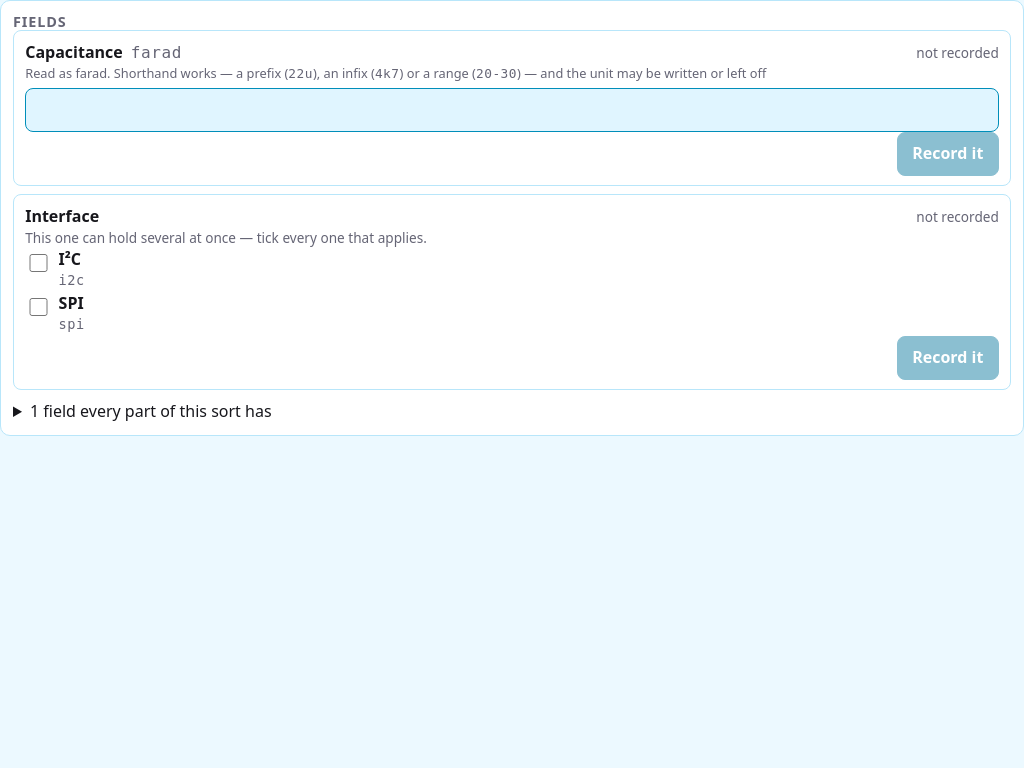
it: PartFields › puts the server's refusal against the field that caused it
The image size is (1024, 768).
Expected: the text "Capacitance" is shown, [25,41,123,64]
In the field labelled "Shorthand works": x=512, y=110 [25,88,999,132], type "1M"
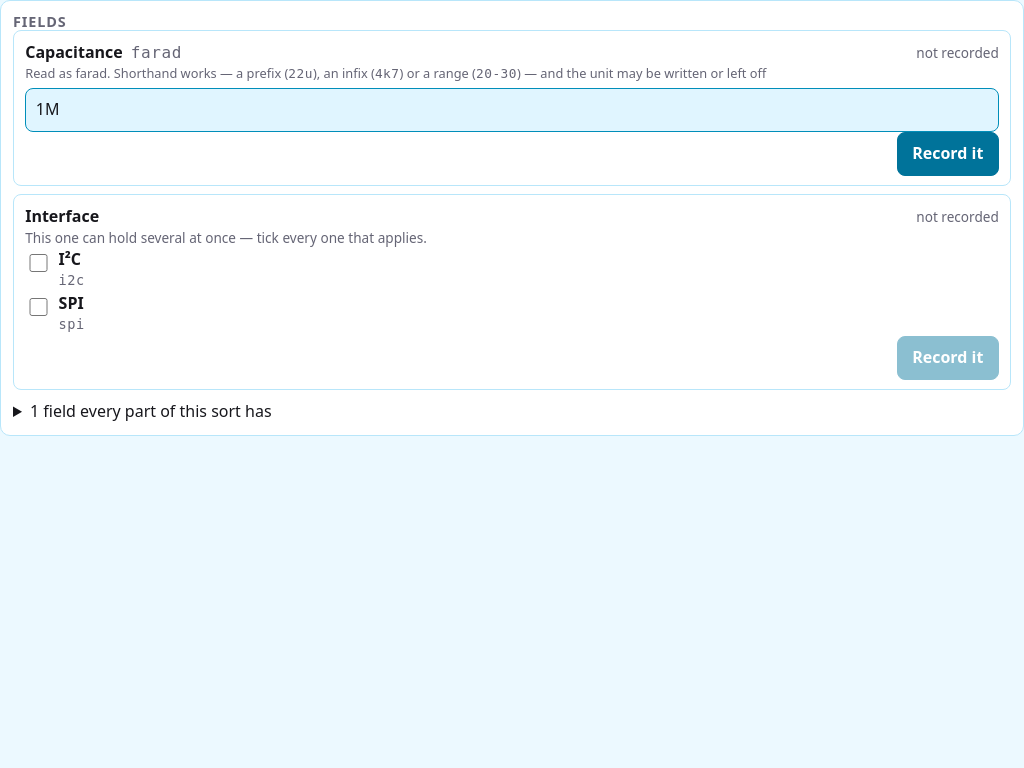
Click the 1st button "Record it": x=948, y=154 [897,132,999,176]
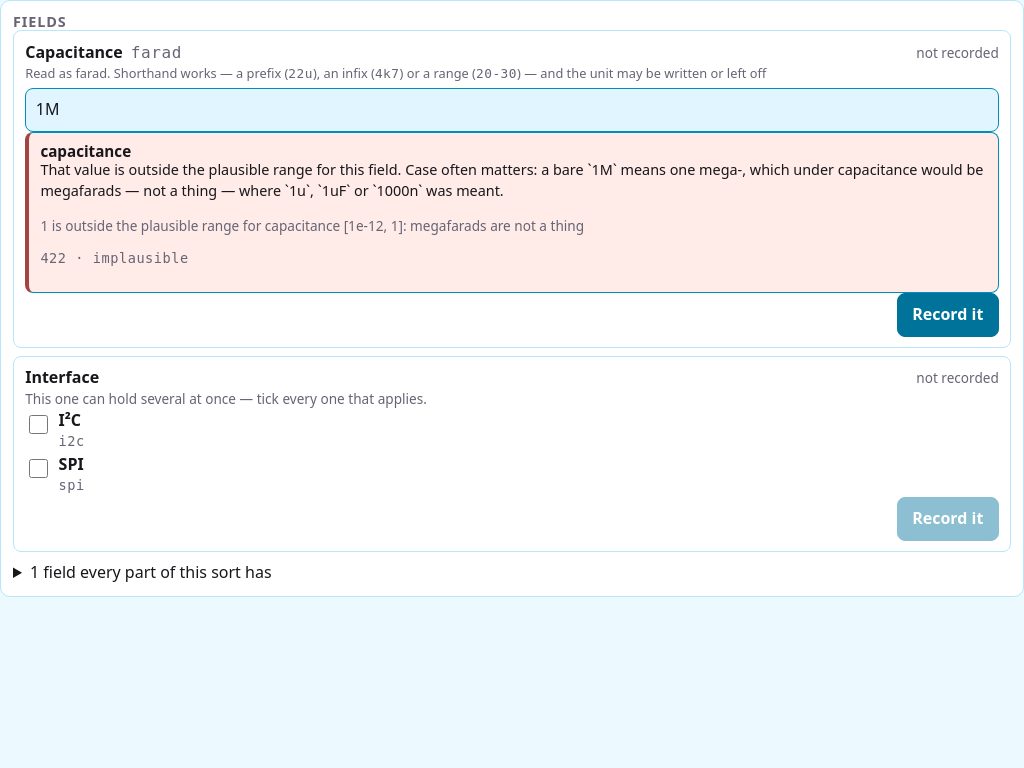
Result: the text "megafarads are not a thing" is shown at [40,216,584,235]
